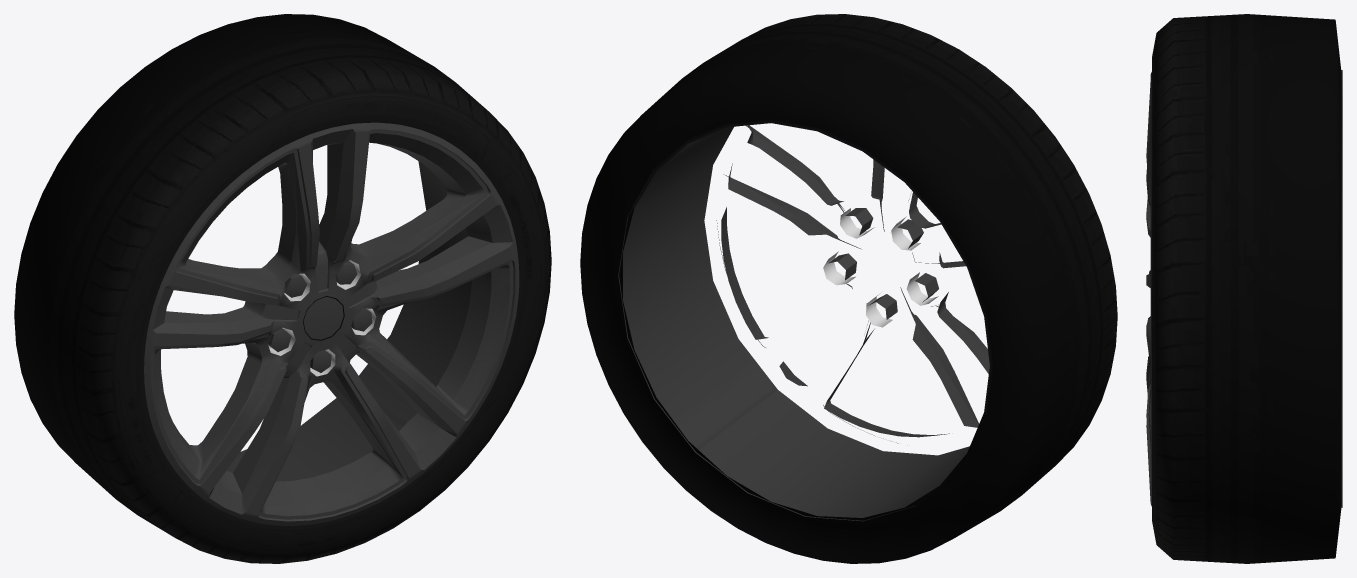
File: Wheel_Base_Silver.glb
3 renders of one model, left to right at view 1: azimuth 30°, elevation 25°; view 2: azimuth 150°, elevation 25°; view 3: azimuth 270°, elevation 25°, orthographic. The views are drawn at different scales.
Parts seen in each view (by area): view 1: Base_Wheel; view 2: Base_Wheel; view 3: Base_Wheel.
Boxes of the visible parts, x1,y1,x2,y2 form: Base_Wheel: (14, 14, 551, 563); Base_Wheel: (580, 14, 1117, 563); Base_Wheel: (1146, 14, 1342, 563).
Bounding box in the file's own units: 0.7408 × 0.7394 × 0.2642.
Materials: 2 (2 with a texture image).
